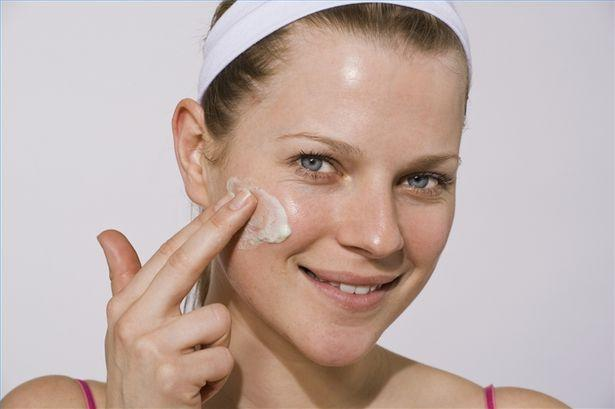Oily-Skin: (371, 192, 389, 258), (336, 54, 364, 92), (283, 192, 302, 216)
